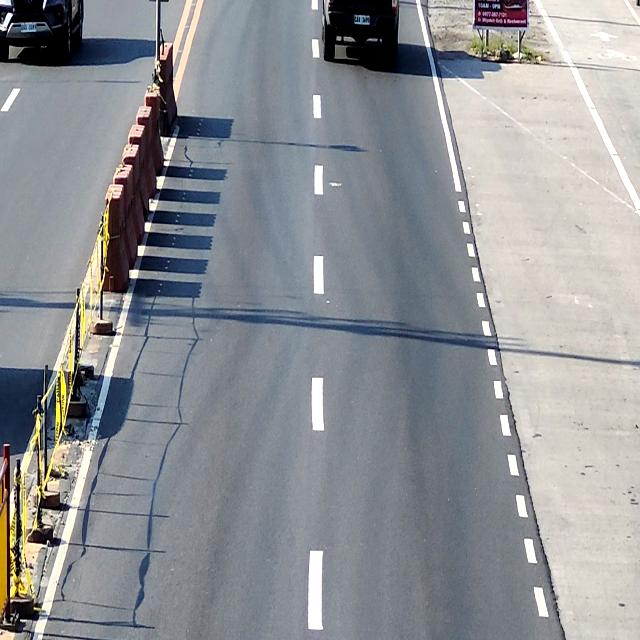Car: (0, 0, 83, 63), (322, 0, 400, 65)
License-Plate: (20, 21, 36, 33), (354, 15, 371, 25)
